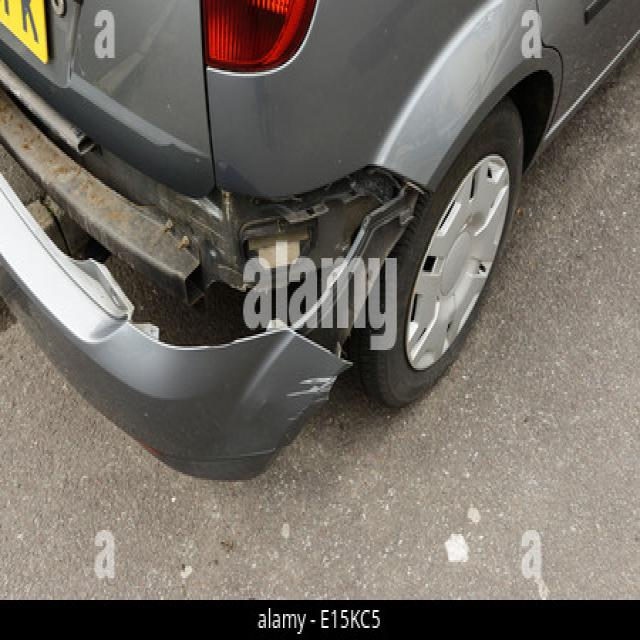misalignment: (0, 58, 432, 365)
scratch: (285, 374, 337, 426)
